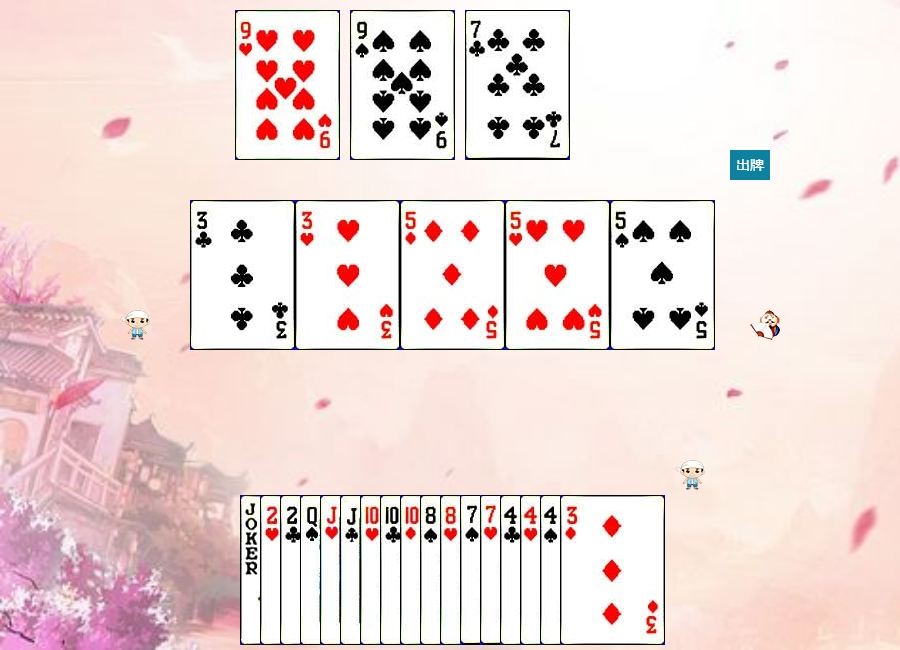10~1: (400, 495, 505, 645)
10~2: (380, 495, 485, 645)
10~3: (360, 495, 465, 645)
11~2: (340, 495, 445, 645)
11~3: (320, 495, 425, 645)
12~4: (300, 495, 405, 645)
15~2: (280, 495, 385, 645)
15~3: (260, 495, 365, 645)
17~3: (240, 495, 345, 645)
3~1: (560, 495, 665, 645)
3~2: (190, 200, 295, 350)
3~3: (295, 200, 400, 350)
4~2: (500, 495, 605, 645)
4~3: (520, 495, 625, 645)
4~4: (540, 495, 645, 645)
5~1: (400, 200, 505, 350)
5~3: (505, 200, 610, 350)
5~4: (610, 200, 715, 350)
7~2: (465, 10, 570, 160)
7~3: (480, 495, 585, 645)
7~4: (460, 495, 565, 645)
8~3: (440, 495, 545, 645)
8~4: (420, 495, 525, 645)
9~3: (235, 10, 340, 160)
9~4: (350, 10, 455, 160)
